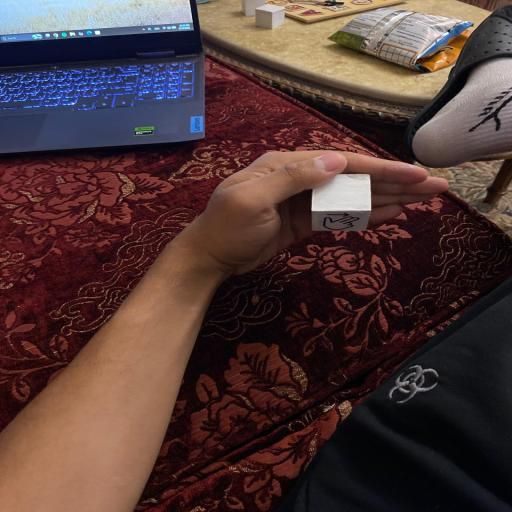RightSwipe: (311, 173, 374, 233)
